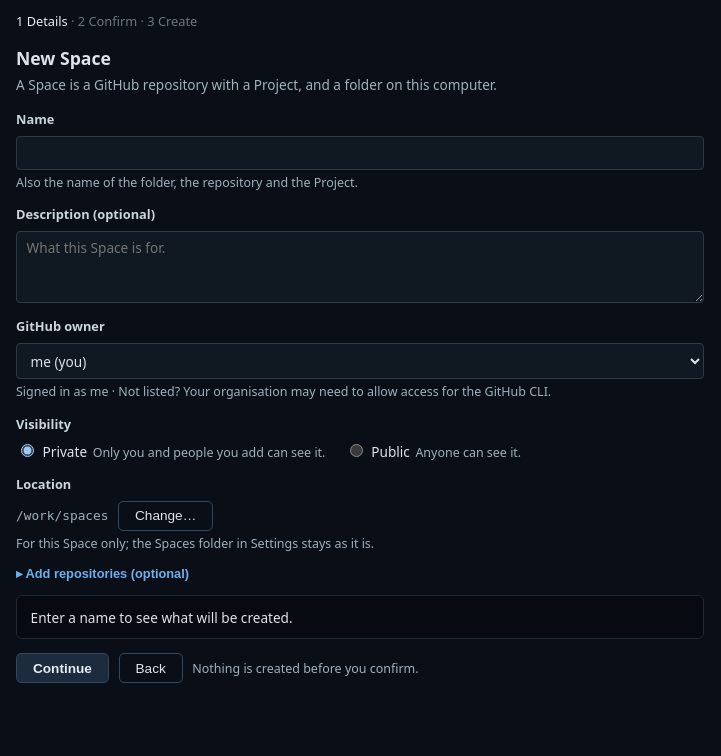
Test: typing a name updates "What will be created", and the target state drives Continue
Type "demo" into the field with test id "setup-field-name".
click(360, 153); type("demo")  # box [16, 136, 704, 170]
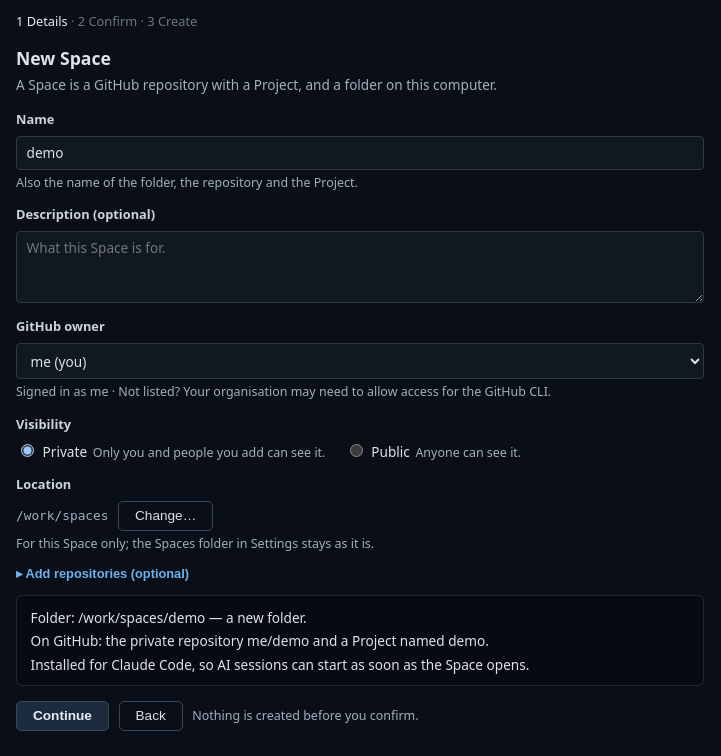
Check: the element with test id "setup-will-create" shows "a new folder.", box [31, 608, 307, 627]
Check: the element with test id "setup-will-create" shows "/work/spaces/demo", box [31, 608, 307, 627]
Replace the text in the field with test id "setup-field-name" with "demo2" at (360, 153), box [16, 136, 704, 170]
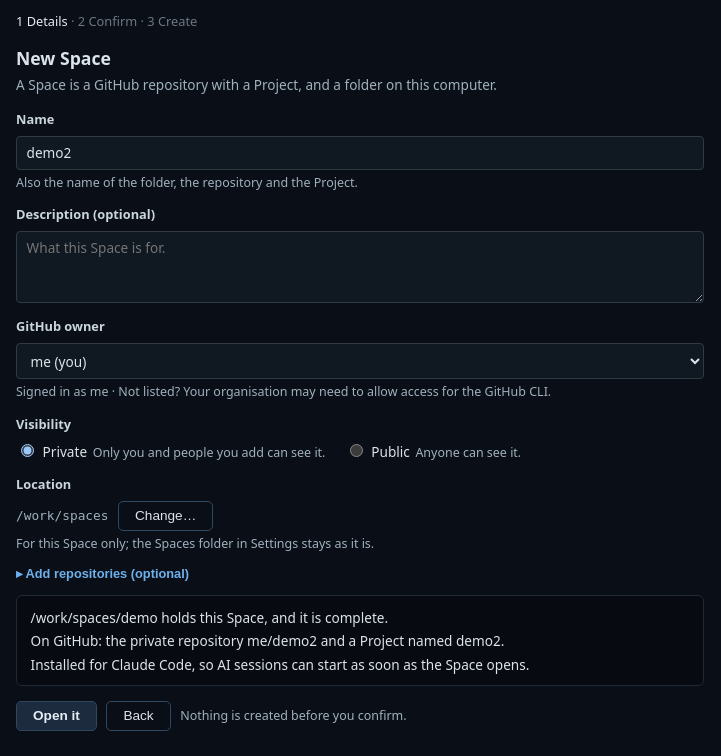
Check: the button with test id "setup-open-existing" is shown, box [16, 701, 97, 731]
Check: the button with test id "setup-continue" is gone
Replace the text in the field with test id "setup-field-name" with "demo3" at (360, 153), box [16, 136, 704, 170]
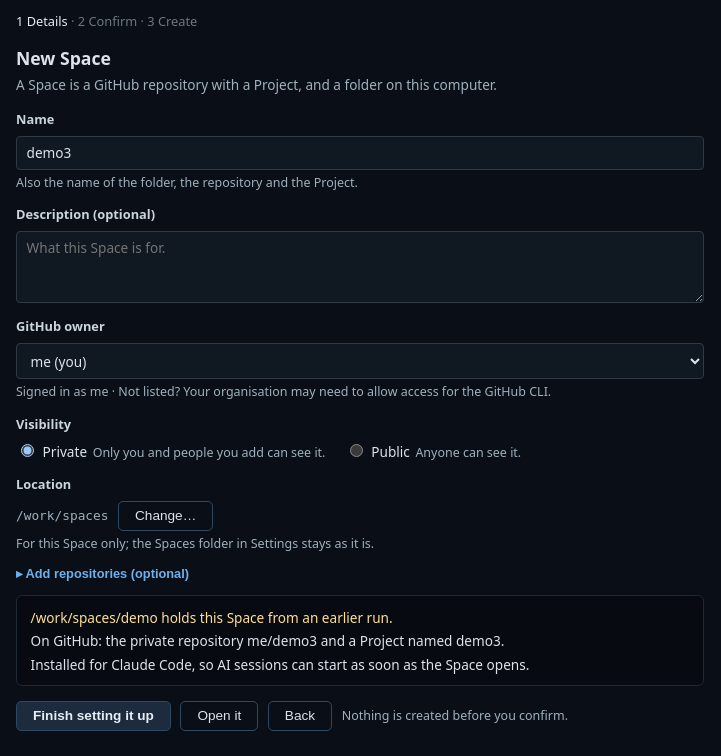
Check: the button with test id "setup-open-existing" is shown, box [180, 701, 258, 731]
Check: the button with test id "setup-continue" reads "Finish setting it up", box [16, 701, 171, 731]
Replace the text in the field with test id "setup-field-name" with "demo4" at (360, 153), box [16, 136, 704, 170]
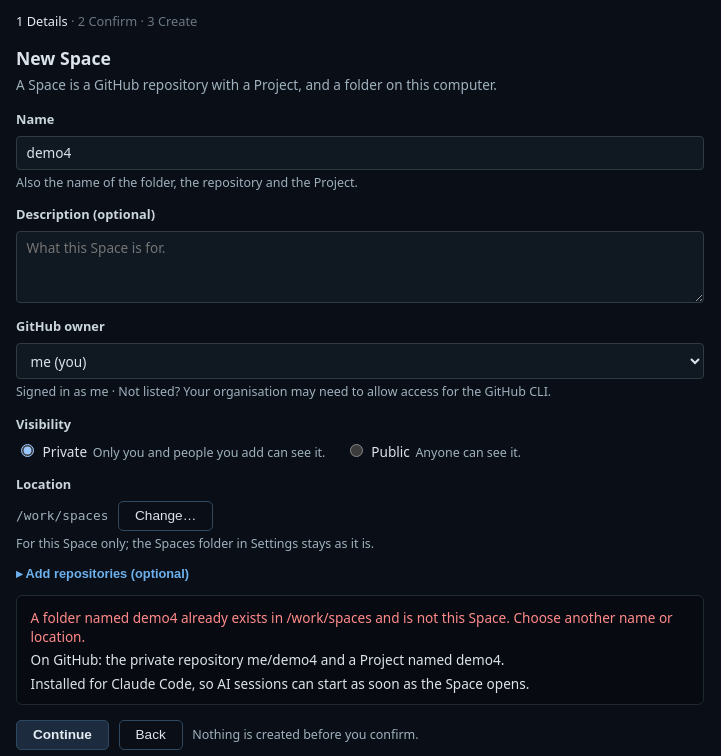
Check: the button with test id "setup-continue" is disabled, box [16, 720, 109, 750]
